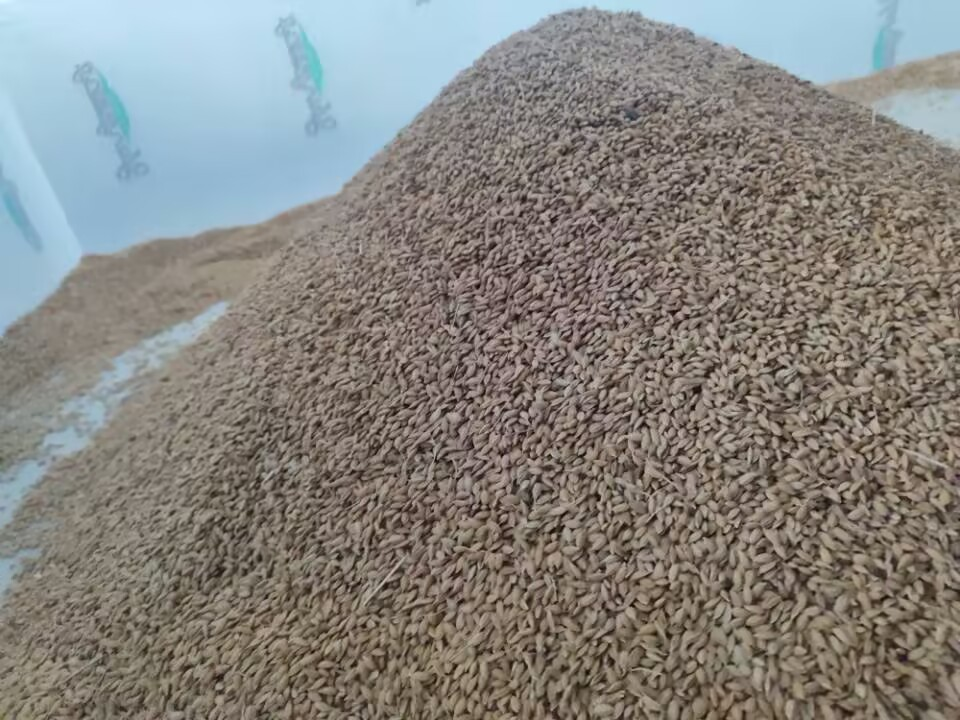Grain: (240, 5, 959, 595)
